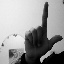l: (23, 1, 63, 60)
